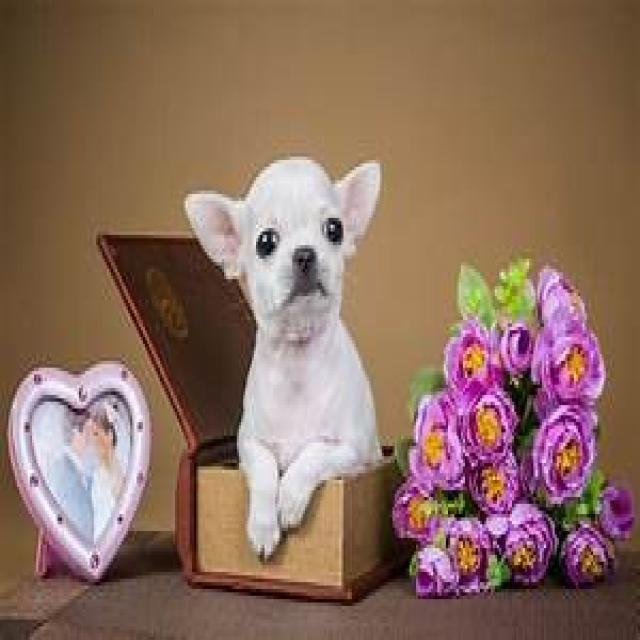dog: (183, 152, 384, 554)
